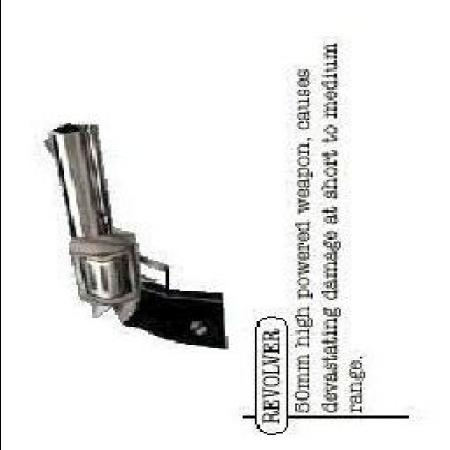Pistol: (40, 123, 224, 351)
